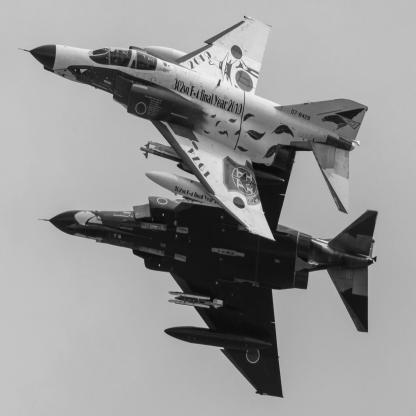F4: (39, 152, 380, 400), (19, 16, 369, 242)
